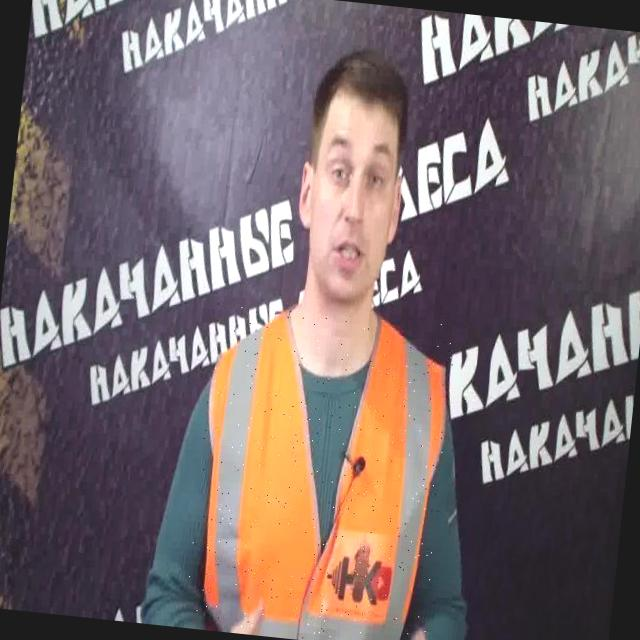no-helmet: (240, 32, 447, 340)
vest: (184, 299, 459, 640)
